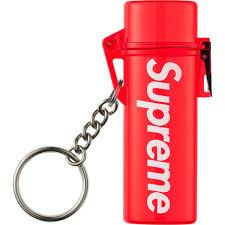lighter: (102, 0, 214, 225)
